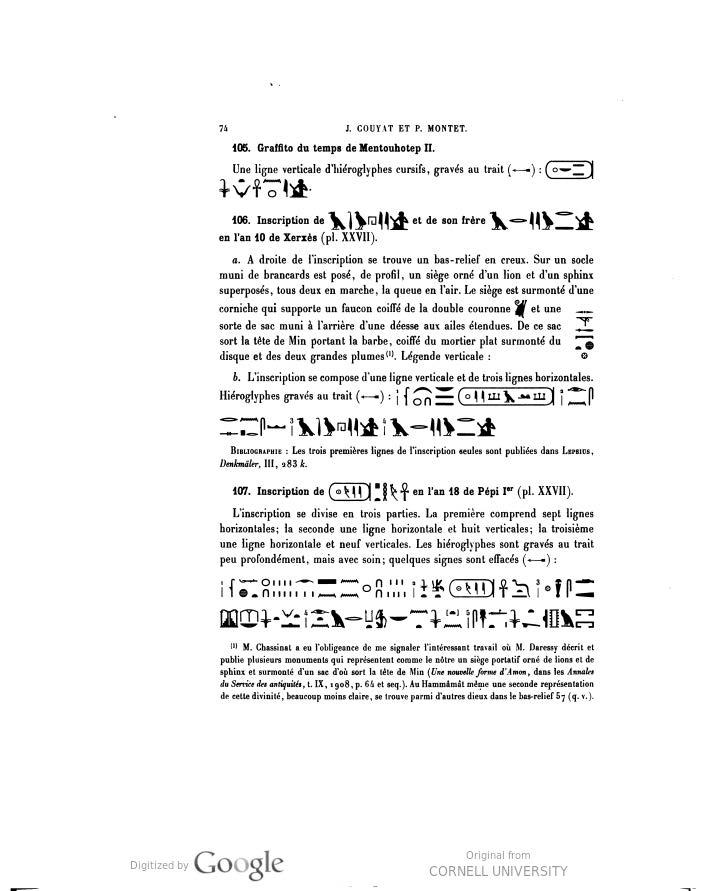circle: (448, 372, 565, 417), (444, 561, 507, 612), (326, 469, 384, 510), (544, 152, 603, 186)
